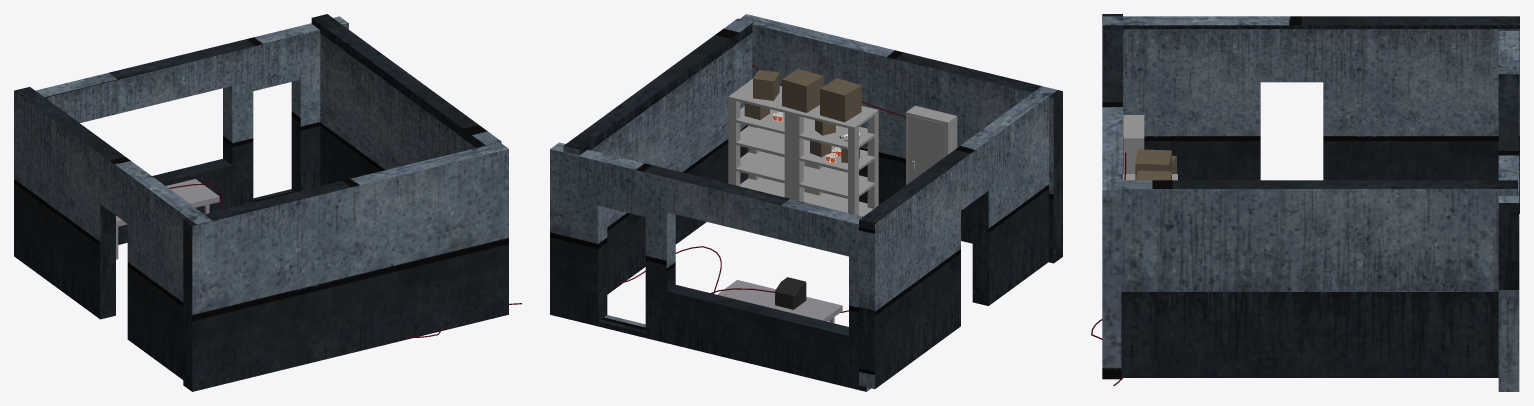
Rendered from office.glb.
The picture shows the model from 3 angles, left to right: view 1: azimuth 30°, elevation 25°; view 2: azimuth 150°, elevation 25°; view 3: azimuth 270°, elevation 25°; orthographic projection. The views are drawn at different scales.
Parts seen in each view (by area): view 1: mur1, mur3, mur fenetre, mur2, Bureau; view 2: mur fenetre, mur3, mur1, mur2, étagère, étagère.001, Armoire éléctrique, Bureau, Carton3, Carton2, ecran CRT, Carton1; view 3: mur2, mur3, mur fenetre, mur1, Armoire éléctrique, Carton3.
Part boxes in pixels (x1,y1,x2,y2): mur1: (183, 143, 508, 391); mur3: (14, 87, 212, 379); mur fenetre: (35, 16, 348, 244); mur2: (311, 14, 501, 185); Bureau: (116, 179, 219, 259); mur fenetre: (550, 142, 870, 391); mur3: (859, 86, 1057, 389); mur1: (740, 14, 1062, 263); mur2: (563, 18, 753, 294); étagère: (791, 105, 878, 216); étagère.001: (728, 79, 811, 198); Armoire éléctrique: (906, 105, 957, 185); Bureau: (717, 280, 842, 323); Carton3: (820, 78, 861, 122); Carton2: (782, 69, 823, 112); ecran CRT: (775, 277, 806, 309); Carton1: (753, 70, 779, 100); mur2: (1121, 180, 1517, 377); mur3: (1103, 16, 1519, 213); mur fenetre: (1498, 31, 1519, 391); mur1: (1102, 14, 1122, 379); Armoire éléctrique: (1123, 115, 1144, 173); Carton3: (1135, 149, 1171, 180).
Bounding box in the file's own units: 6.34 × 3.11 × 6.17.
13 materials, 2 textured.
